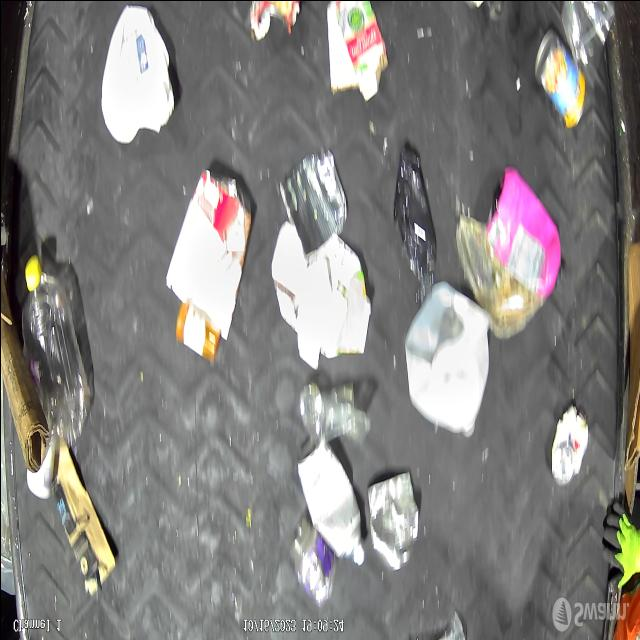can: (296, 434, 364, 568), (278, 146, 348, 258), (533, 24, 587, 132), (367, 468, 423, 572), (287, 517, 337, 607), (548, 400, 588, 484)
milk_jug: (401, 278, 492, 439), (97, 0, 176, 144)
non_white_jug: (486, 162, 562, 298)
plastic_bottle: (20, 250, 93, 453), (298, 382, 368, 442)
